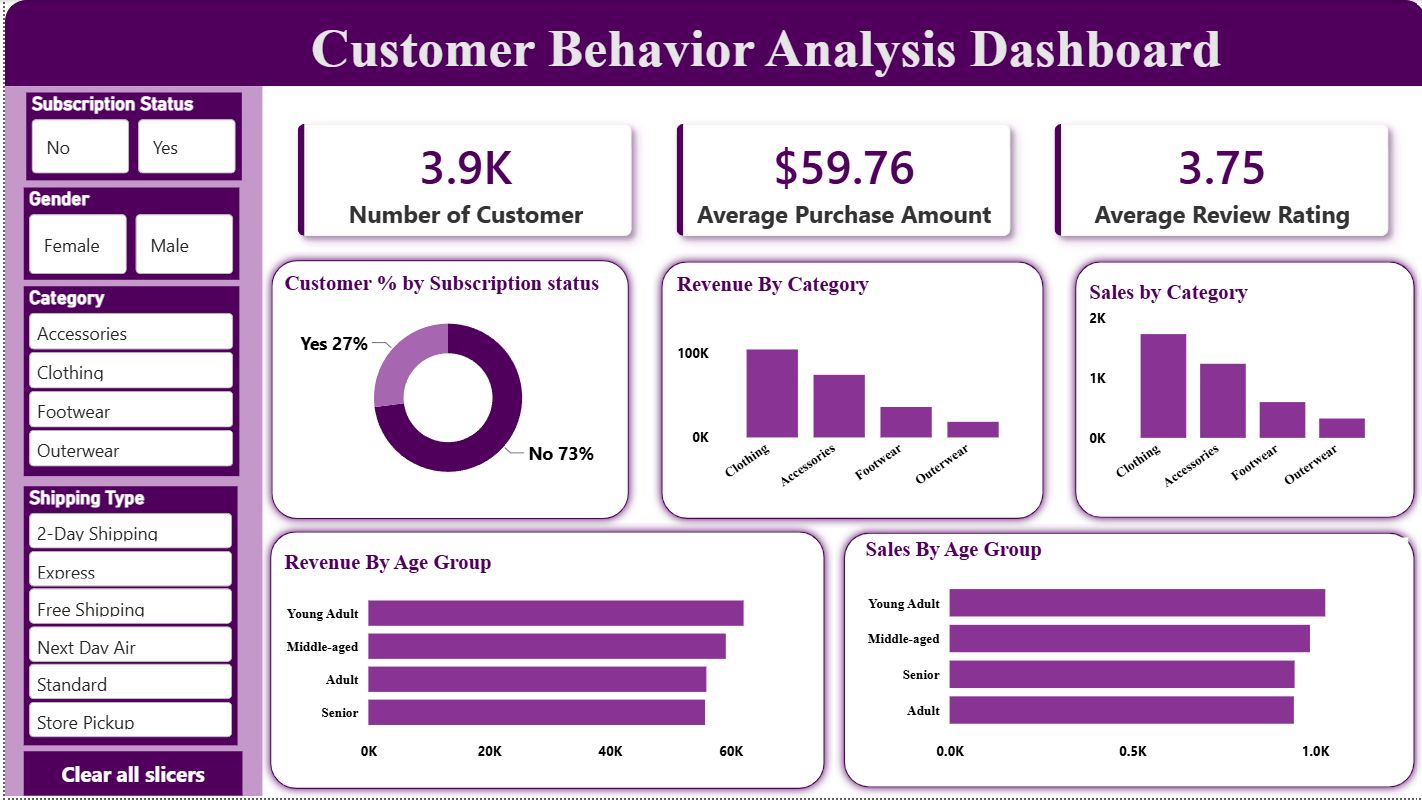

Layout of this report page (visuals, bound fields, positions):
{"tool":"powerbi","page":{"name":"Analysis Page","canvas":[1280,720],"ordinal":0},"visuals":[{"type":"cardVisual","fields":{"Data":["customer_behavior customer.Number of Customer","customer_behavior customer.Average Purchase Amount","customer_behavior customer.Average Review Rating"]},"box":[231.2,78.4,1049,167.2],"z":0},{"type":"shape","box":[0,0,1281.9,77.8],"z":1000},{"type":"textbox","box":[168.5,11.8,1034.7,66.6],"z":2000},{"type":"shape","box":[232.5,226,338.4,249.5],"z":3000},{"type":"donutChart","title":"Customer % by Subscription status","fields":{"Category":["customer_behavior customer.subscription_status"],"Y":["CountNonNull(customer_behavior customer.customer_id)"]},"box":[246.9,244.3,305.7,207.7],"z":4000},{"type":"shape","box":[583.3,227.3,360.6,248.2],"z":5000},{"type":"shape","box":[956.9,227.8,322.2,247.2],"z":6000},{"type":"clusteredColumnChart","title":"Revenue By Category","fields":{"Y":["Sum(customer_behavior customer.purchase_amount)"],"Category":["customer_behavior customer.category"]},"box":[600.9,245.6,326.6,212.9],"z":7000},{"type":"clusteredColumnChart","title":"Sales by Category","fields":{"Category":["customer_behavior customer.category"],"Y":["CountNonNull(customer_behavior customer.customer_id)"]},"box":[972.2,252.8,281.9,205.6],"z":8000},{"type":"shape","box":[0,77.8,231.9,640.3],"z":9000},{"type":"advancedSlicerVisual","title":"Subscription Status","fields":{"Values":["customer_behavior customer.subscription_status"]},"box":[19.4,83.3,194.4,79.2],"z":10000},{"type":"advancedSlicerVisual","title":"Gender","fields":{"Values":["customer_behavior customer.gender"]},"box":[16.7,169.4,194.4,83.3],"z":11000},{"type":"advancedSlicerVisual","title":"Category","fields":{"Values":["customer_behavior customer.category"]},"box":[16.7,258.3,194.4,170.8],"z":12000},{"type":"advancedSlicerVisual","title":"Shipping Type","fields":{"Values":["customer_behavior customer.shipping_type"]},"box":[16.7,438.9,193.1,233.3],"z":13000},{"type":"shape","box":[231.2,471.6,516,248.2],"z":14000},{"type":"clusteredBarChart","title":"Revenue By Age Group","fields":{"Category":["customer_behavior customer.age_group"],"Y":["Sum(customer_behavior customer.purchase_amount)"]},"box":[246.9,496.4,478.1,199.9],"z":15000},{"type":"shape","box":[748.6,472.2,530.6,245.8],"z":16000},{"type":"clusteredBarChart","title":"Sales By Age Group","fields":{"Category":["customer_behavior customer.age_group"],"Y":["CountNonNull(customer_behavior customer.customer_id)"]},"box":[770.8,484.7,494.4,211.1],"z":17000},{"type":"actionButton","box":[16.7,677.8,197.2,40.3],"z":18000}]}

Visuals, with their boxes in screenshot pixels (x1, y1, x2, y2), scaled from the page's 1280x720 canvas onto the 1422x800 screenshot:
cardVisual - customer_behavior customer.Number of Customer x customer_behavior customer.Average Purchase Amount: left=257, top=87, right=1421, bottom=273
shape: left=0, top=0, right=1421, bottom=86
textbox: left=187, top=13, right=1337, bottom=87
shape: left=258, top=251, right=634, bottom=528
"Customer % by Subscription status" donutChart: left=274, top=271, right=614, bottom=502
shape: left=648, top=253, right=1049, bottom=528
shape: left=1063, top=253, right=1421, bottom=528
"Revenue By Category" clusteredColumnChart: left=668, top=273, right=1030, bottom=509
"Sales by Category" clusteredColumnChart: left=1080, top=281, right=1393, bottom=509
shape: left=0, top=86, right=258, bottom=798
"Subscription Status" advancedSlicerVisual: left=22, top=93, right=238, bottom=181
"Gender" advancedSlicerVisual: left=19, top=188, right=235, bottom=281
"Category" advancedSlicerVisual: left=19, top=287, right=235, bottom=477
"Shipping Type" advancedSlicerVisual: left=19, top=488, right=233, bottom=747
shape: left=257, top=524, right=830, bottom=799
"Revenue By Age Group" clusteredBarChart: left=274, top=552, right=805, bottom=774
shape: left=832, top=525, right=1421, bottom=798
"Sales By Age Group" clusteredBarChart: left=856, top=539, right=1406, bottom=773
actionButton: left=19, top=753, right=238, bottom=798
